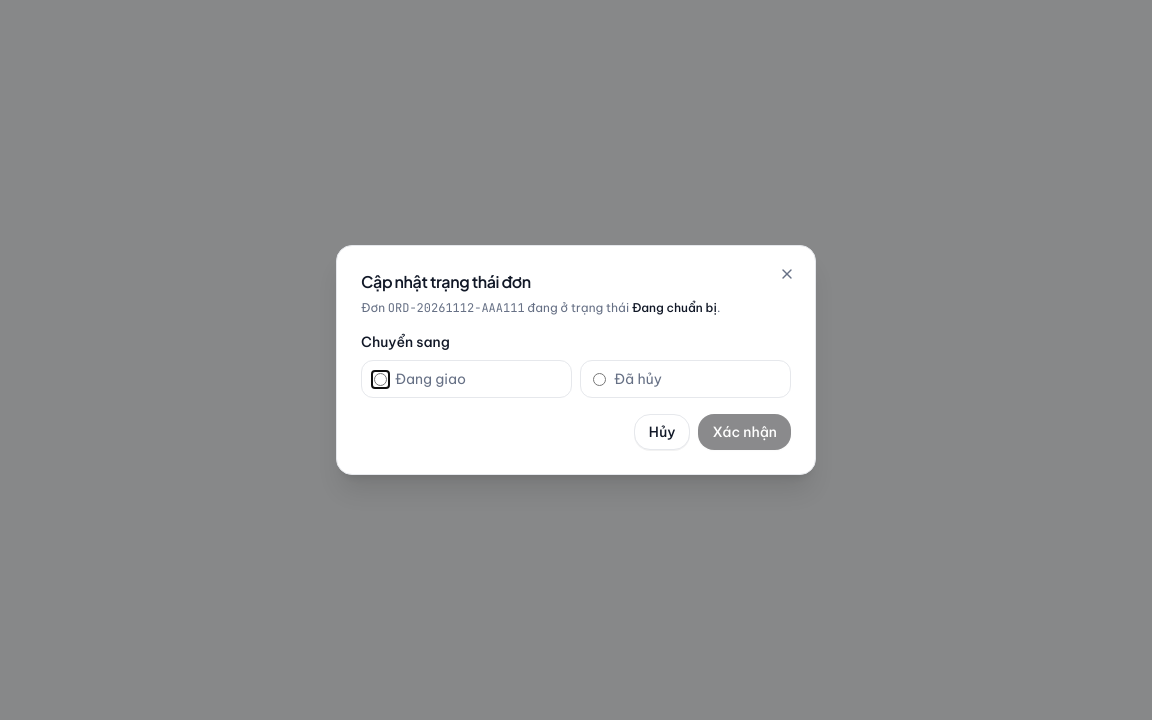
Test case: OrderStatusDialog › requires a reason before cancelling
The image size is (1152, 720).
What coordinates should you click on to do the following:
click the radio button labelled "Đã hủy"
I would click on:
 (600, 379)
Its box is [593,372,606,386].
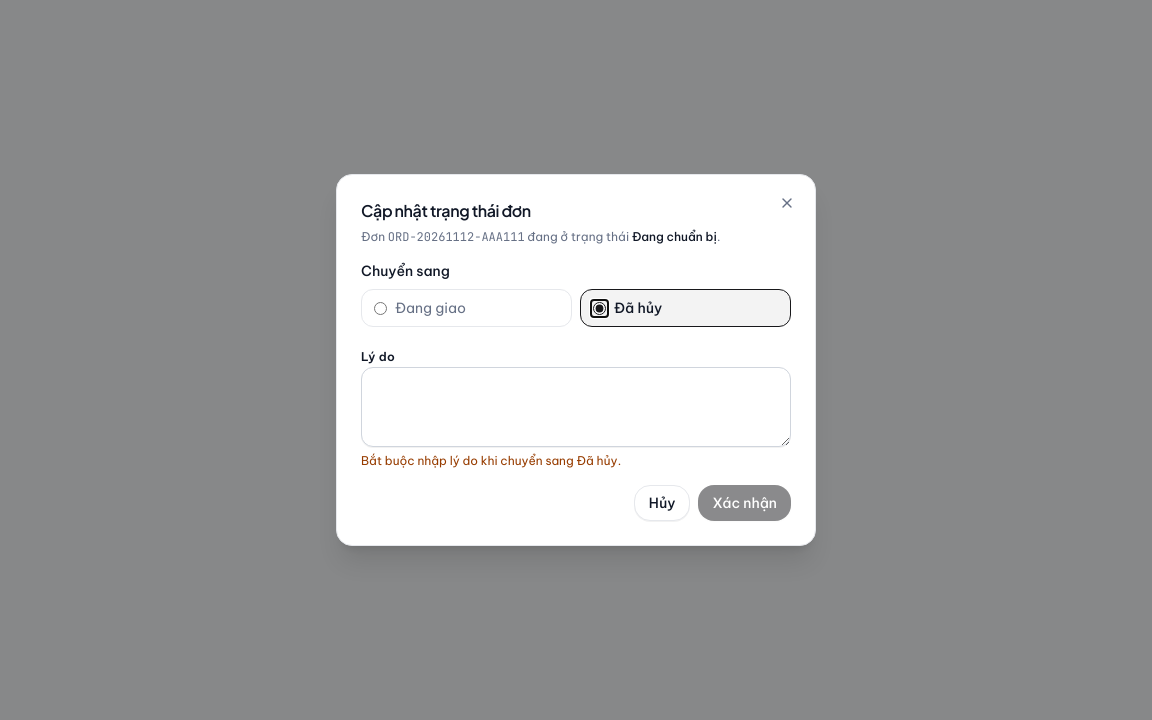
Expected: the button "Xác nhận" is disabled, [698,485,791,521]
Expected: the text "Bắt buộc nhập lý do khi chuyển sang Đã hủy." is shown, [361,453,621,468]
